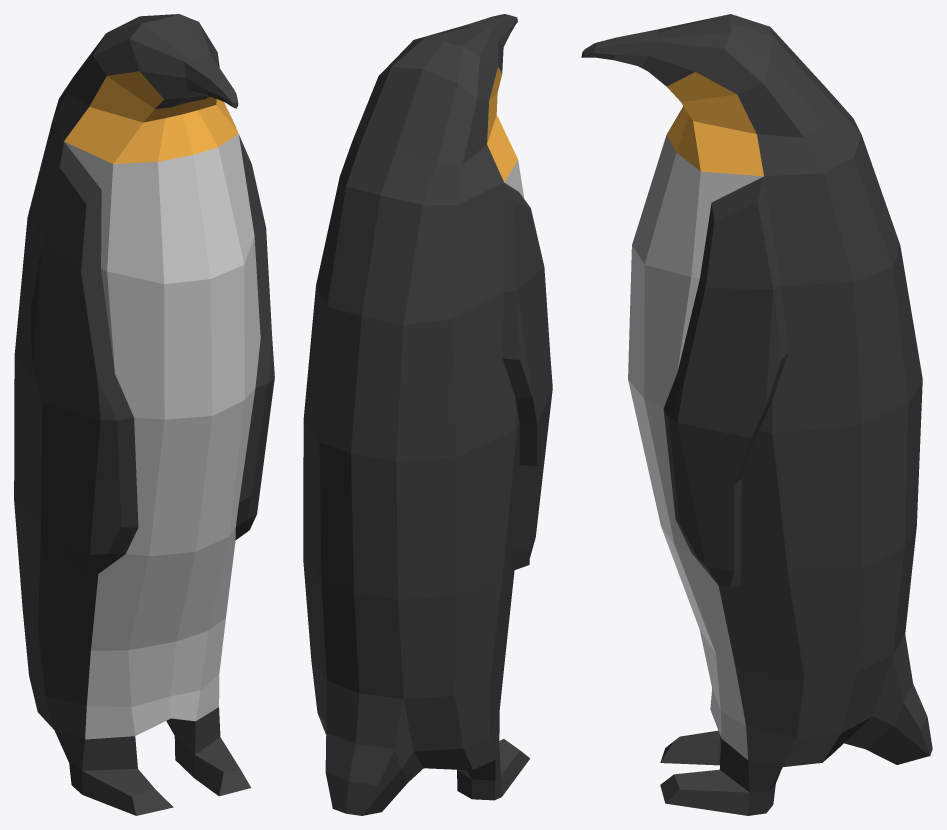
Rendered from Penguin.glb.
The picture shows the model from 3 angles, left to right: view 1: azimuth 30°, elevation 25°; view 2: azimuth 150°, elevation 25°; view 3: azimuth 270°, elevation 25°; orthographic projection. The views are drawn at different scales.
Parts seen in each view (by area): view 1: 06penguinFinal; view 2: 06penguinFinal; view 3: 06penguinFinal.
Part boxes in pixels (x1,y1,x2,y2): 06penguinFinal: [14, 14, 274, 815]; 06penguinFinal: [303, 14, 552, 815]; 06penguinFinal: [581, 14, 932, 815].
Size of the model in its own units: 0.4393 by 1.45 by 0.6087.
Materials: 1 (1 with a texture image).
